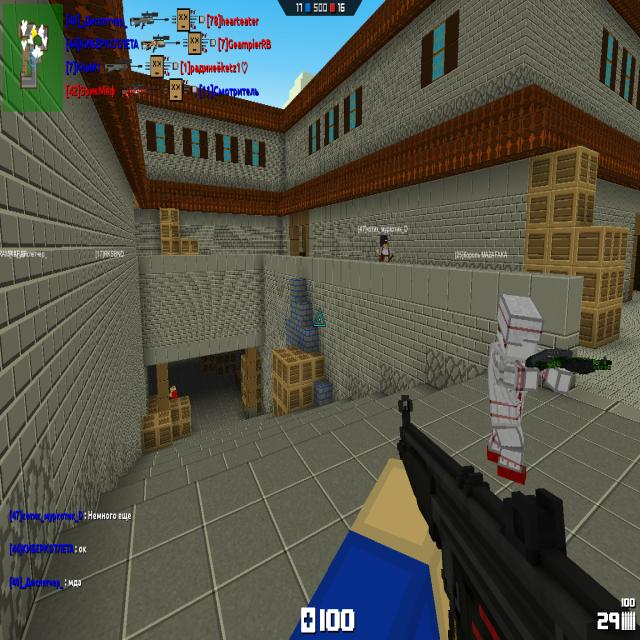enemy: (486, 294, 544, 482), (169, 384, 179, 398)
